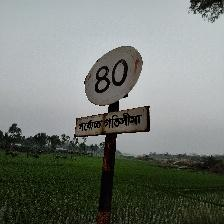Speed-limit: (77, 45, 147, 137)
